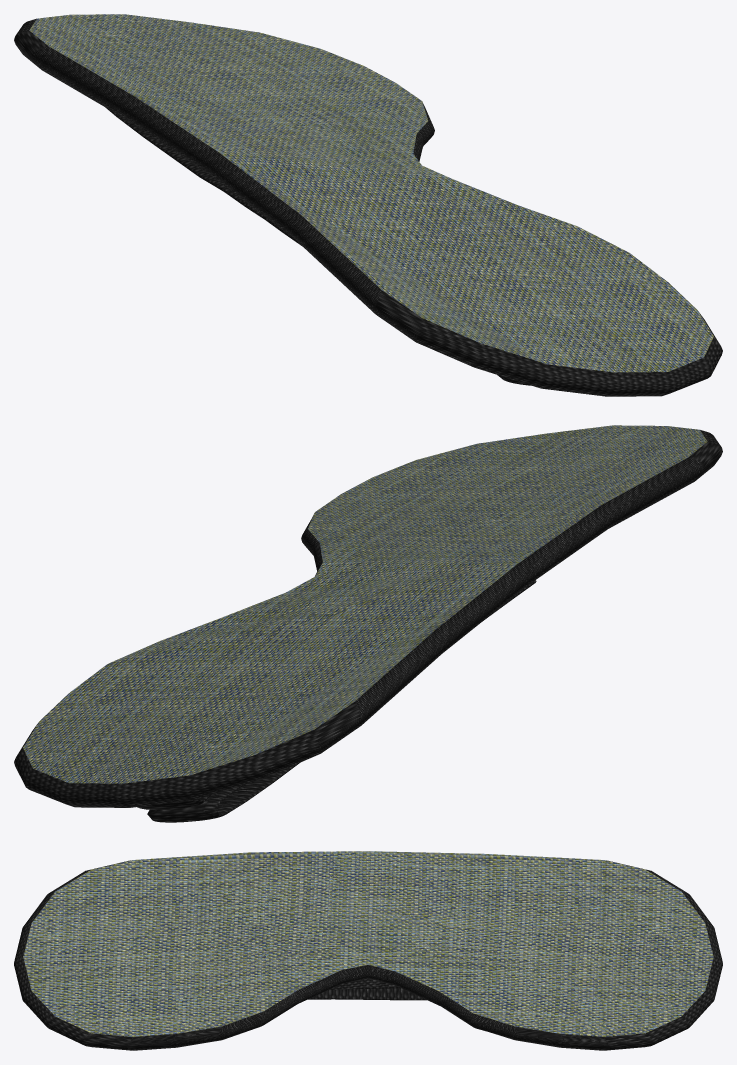
The model's file is Eyepatch.fbx.
The picture shows the model from 3 angles, top to bottom: view 1: azimuth 30°, elevation 25°; view 2: azimuth 150°, elevation 25°; view 3: azimuth 270°, elevation 25°; orthographic projection. The views are drawn at different scales.
Visible parts, largest first — view 1: Eyepatch; view 2: Eyepatch; view 3: Eyepatch.
Boxes of the visible parts, x1,y1,x2,y2 form: Eyepatch: (14,14,722,396); Eyepatch: (14,425,722,822); Eyepatch: (14,851,722,1050).
Bounding box in the file's own units: 0.00367 × 0.00151 × 0.00962.
2 materials, 2 textured.
